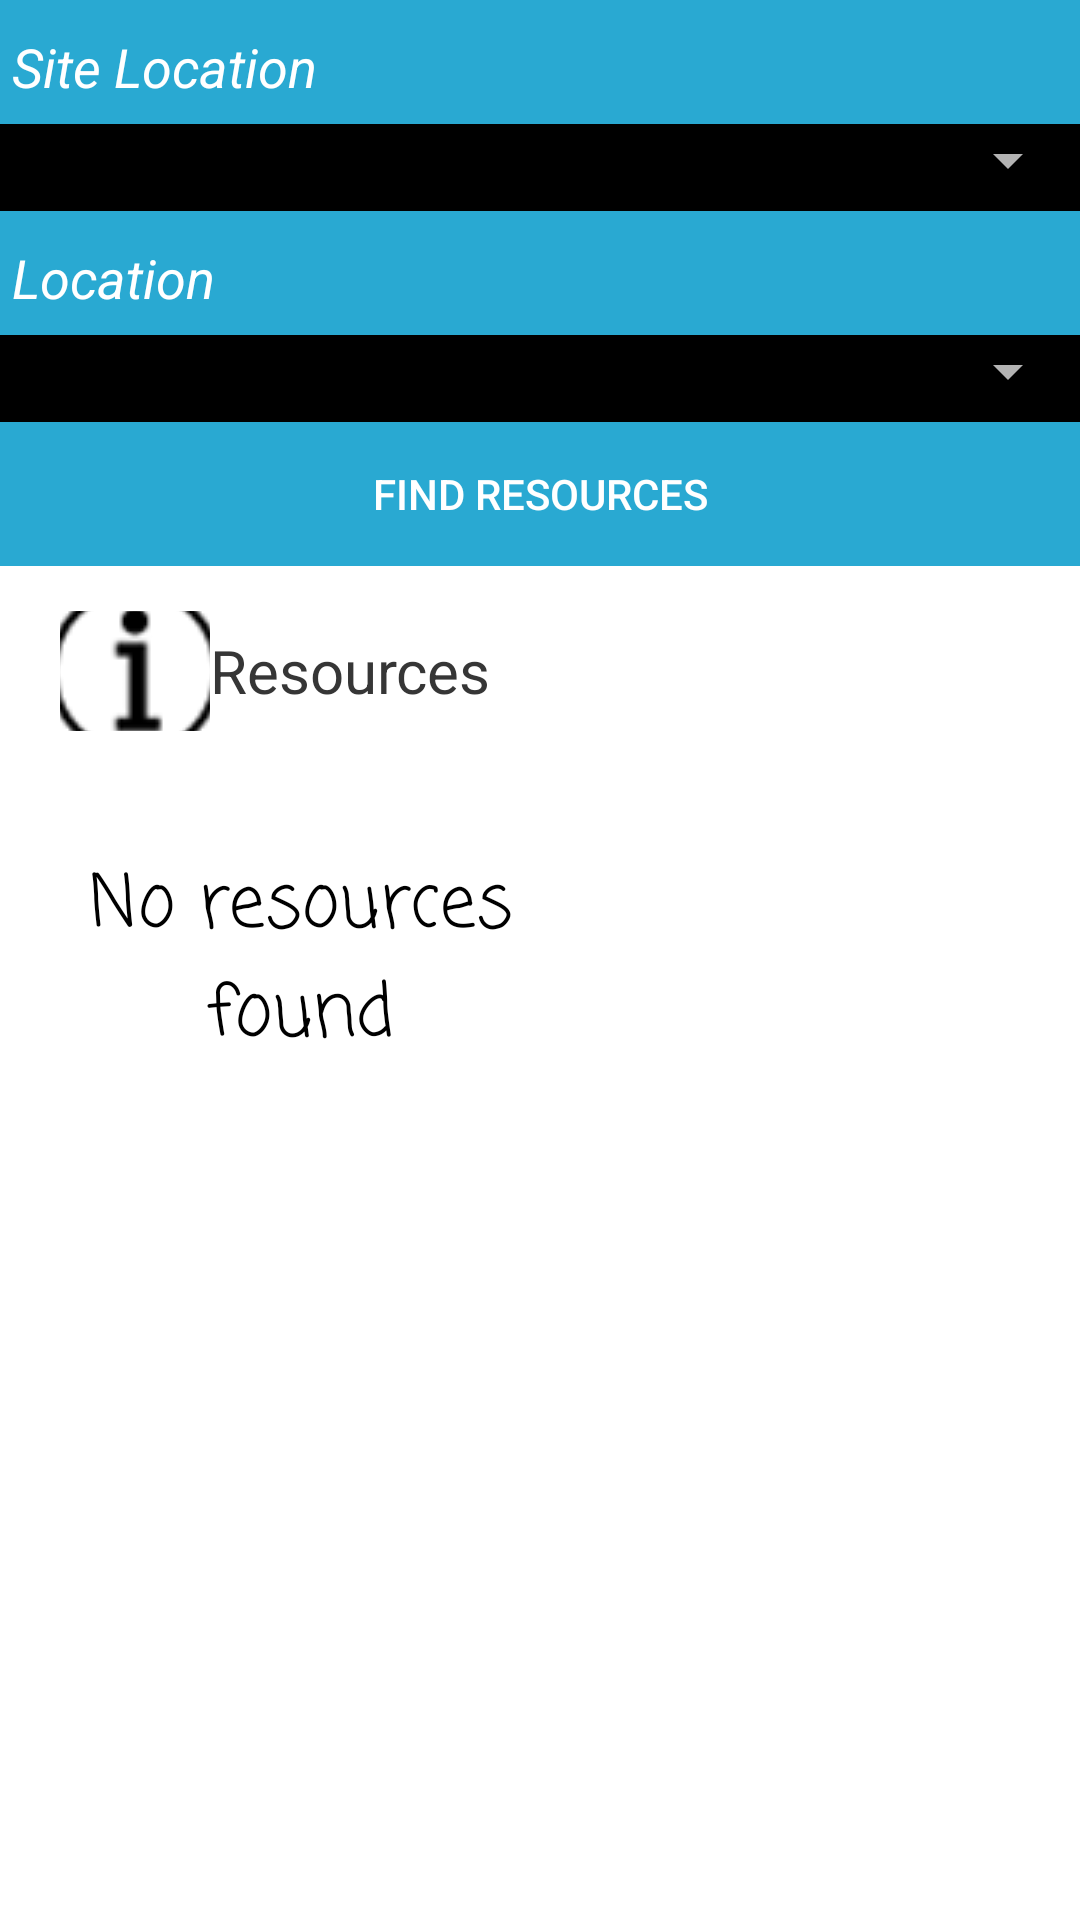

Screen size 1080px×1920px. Icon name, then its box in pixels as {"left": x1, "top": y1, "right": x2, "bottom": y2}:
info: {"left": 60, "top": 611, "right": 210, "bottom": 731}
